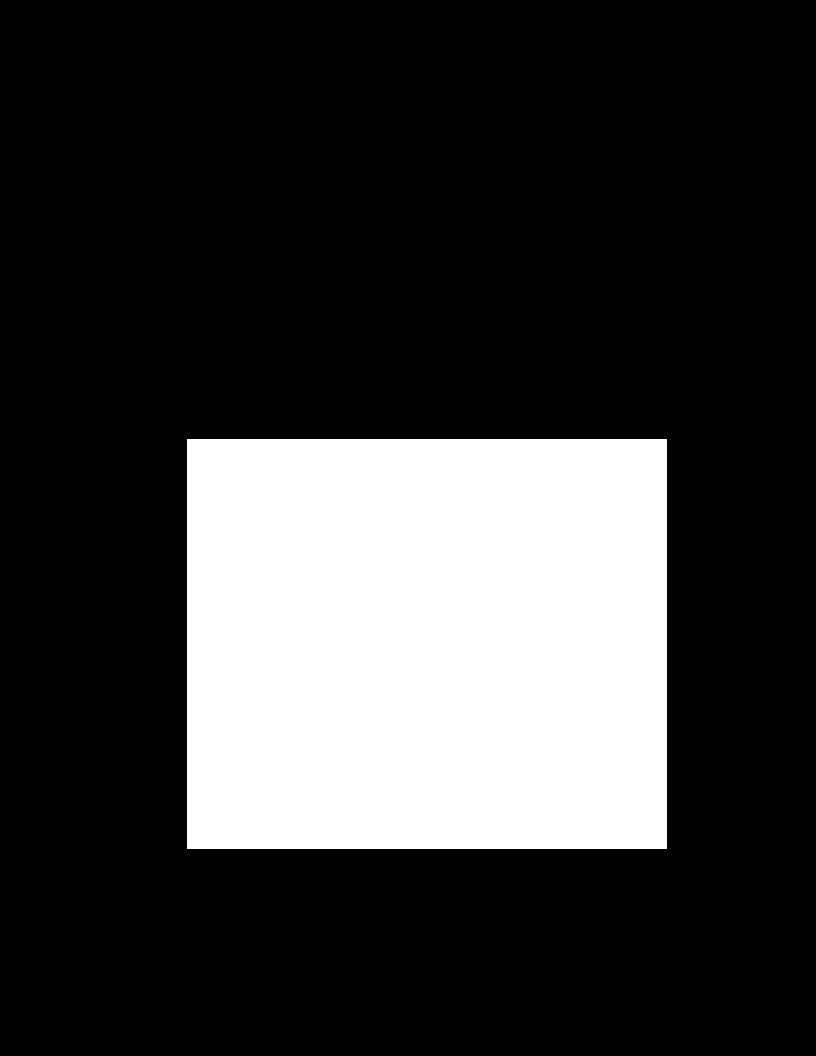table: (187, 439, 666, 848)
